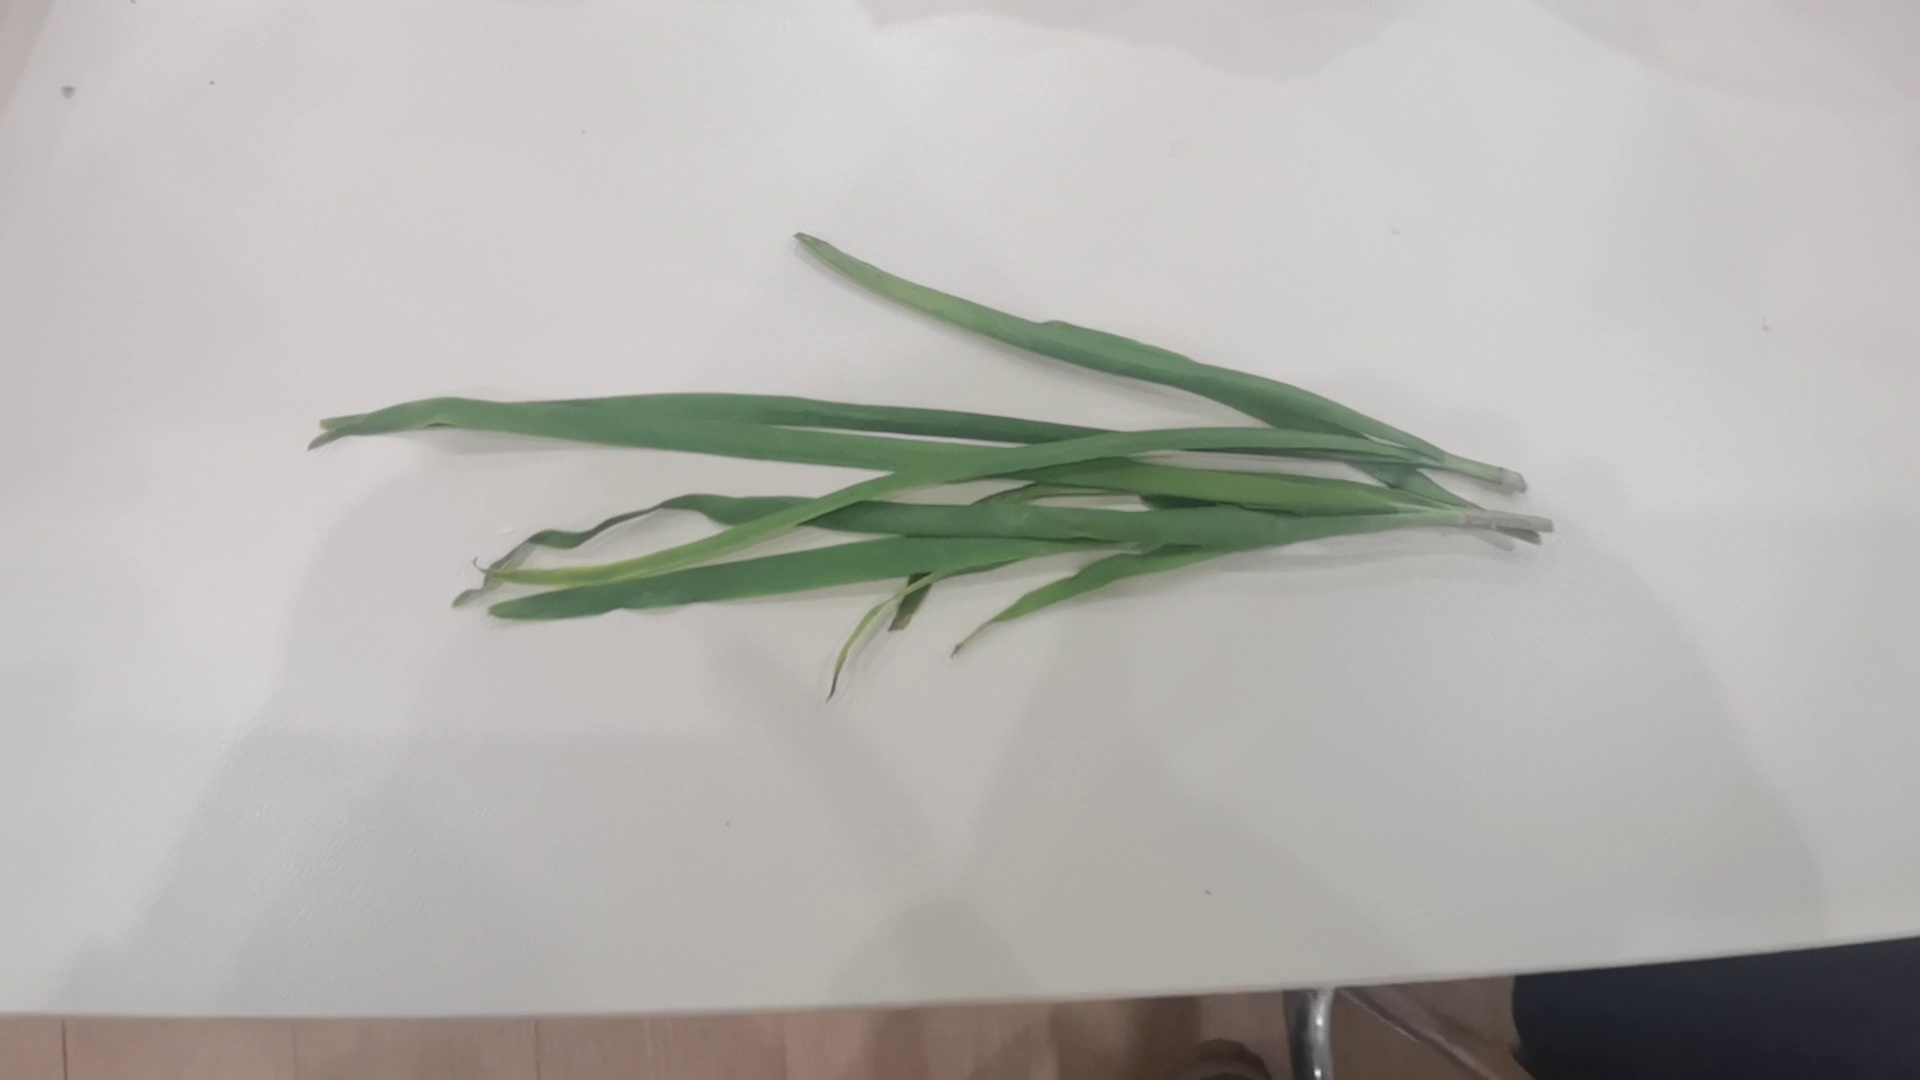chives: (276, 220, 1565, 704)
